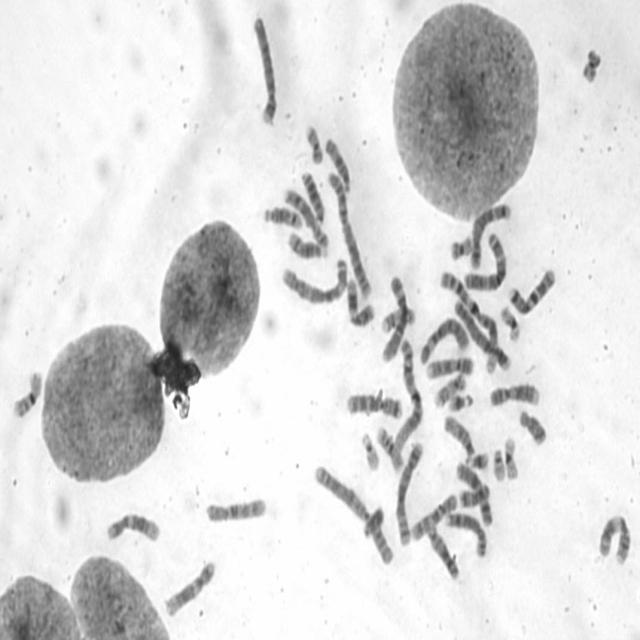A1: (436, 266, 508, 376), (391, 333, 424, 453)
A2: (310, 458, 395, 568), (324, 164, 374, 301)
A3: (279, 251, 350, 307), (461, 228, 509, 292)
B4: (450, 295, 512, 373), (250, 9, 280, 127)
B5: (393, 436, 425, 548), (467, 197, 514, 271)
C10: (407, 487, 459, 544), (204, 491, 268, 524)
C11: (596, 508, 633, 566), (344, 272, 376, 329)
C12: (162, 553, 218, 618), (104, 507, 162, 544)
C6: (417, 310, 471, 366), (378, 269, 408, 364)
C7: (505, 262, 557, 316), (343, 386, 404, 419)
C8: (280, 181, 330, 255), (442, 506, 489, 559)
C9: (486, 377, 542, 409), (423, 351, 475, 380)
D13: (424, 520, 461, 582), (298, 166, 326, 225)
D14: (284, 225, 330, 261), (260, 200, 304, 231)
D15: (322, 132, 353, 194), (441, 410, 477, 458)
E16: (10, 363, 44, 419), (374, 420, 405, 473)
E17: (432, 368, 468, 410), (378, 302, 418, 334)
E18: (516, 403, 549, 447), (458, 482, 489, 508)
F19: (497, 299, 522, 343), (502, 431, 520, 481)
F20: (302, 118, 325, 166), (448, 229, 474, 262)
G21: (446, 387, 475, 413), (463, 446, 490, 471)
G22: (358, 426, 381, 473), (491, 444, 506, 484)
X: (453, 456, 494, 528)
Y: (360, 501, 385, 539)
